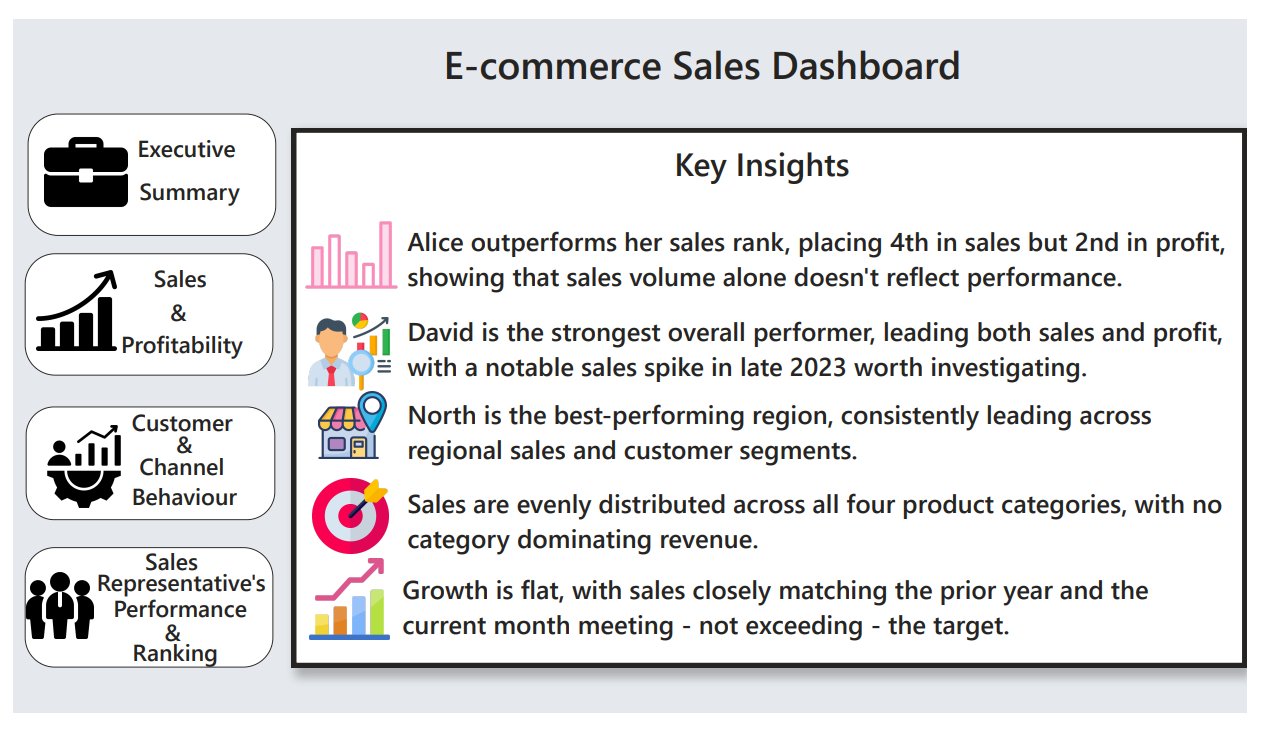

Layout of this report page (visuals, bound fields, positions):
{"tool":"powerbi","page":{"name":"Index","canvas":[1280,720],"ordinal":0},"visuals":[{"type":"shape","box":[289.5,112.9,991,559.9],"z":0},{"type":"textbox","title":"Alice outperforms her sales rank, placing 4th in sales but 2nd in profit, showing that sales volume alone doesn''t reflect performance.","box":[404,211.6,865.3,109.8],"z":1000},{"type":"textbox","title":"David is the strongest overall performer, leading both sales and profit, with a notable sales spike in late 2023 worth investigating.","box":[404,305.4,865.3,101.8],"z":2000},{"type":"textbox","title":"North is the best-performing region, consistently leading across regional sales and customer segments.","box":[404,391.3,865.3,101.8],"z":3000},{"type":"textbox","title":"Sales are evenly distributed across all four product categories, with no category dominating revenue.","box":[404,483.5,865.3,101.8],"z":4000},{"type":"textbox","title":"Growth is flat, with sales closely matching the prior year and the current month meeting - not exceeding - the target.","box":[399.2,572.6,865.3,101.8],"z":5000},{"type":"image","box":[302.2,189.3,97.4,111.1],"z":6000},{"type":"image","box":[302.2,559.9,93.8,84.3],"z":7000},{"type":"image","box":[289.5,302.2,119.3,85.9],"z":8000},{"type":"image","box":[316.5,364.2,70,112.9],"z":9000},{"type":"image","box":[303.8,477.2,91.9,78.1],"z":10000},{"type":"shape","box":[15,98.3,258.3,126.7],"z":11000},{"type":"shape","box":[11.7,243.3,258.3,126.7],"z":12000},{"type":"shape","box":[13.3,401.7,258.3,118.3],"z":13000},{"type":"shape","box":[11.7,548.3,258.3,125],"z":14000},{"type":"textbox","title":"Executive ","box":[123.9,116.7,116.1,52.2],"z":15000},{"type":"textbox","title":"&","box":[157.8,286.7,120.6,62.2],"z":16000},{"type":"textbox","title":"Sales","box":[141.1,252.2,116.7,68.3],"z":17000},{"type":"textbox","title":"Summary","box":[125.6,161.7,116.1,75],"z":18000},{"type":"textbox","title":"Profitability","box":[107.2,320,152.8,72.8],"z":19000},{"type":"textbox","title":"Customer","box":[117.8,400.6,152.8,63.9],"z":20000},{"type":"textbox","title":"&","box":[164.4,424.4,35.6,36.7],"z":21000},{"type":"textbox","title":"Channel","box":[125.6,447.2,152.8,72.8],"z":22000},{"type":"textbox","title":"Behaviour","box":[117.8,477.8,152.8,72.8],"z":23000},{"type":"textbox","title":"Sales","box":[132.2,546.1,152.8,72.8],"z":24000},{"type":"textbox","title":"Representative''s","box":[82.2,567.2,196.1,72.8],"z":25000},{"type":"textbox","title":"Performance","box":[98.9,594.4,153.3,72.8],"z":26000},{"type":"textbox","title":"&","box":[151.7,618.9,152.8,73.3],"z":27000},{"type":"textbox","title":"Ranking","box":[119,640,152.9,72.9],"z":28000},{"type":"image","box":[14.3,566.3,68.4,84.3],"z":29000},{"type":"image","box":[33.4,79.5,85.9,157.5],"z":30000},{"type":"image","box":[23.9,245,82.7,114.5],"z":31000},{"type":"image","box":[28.6,400.8,89.1,127.2],"z":32000},{"type":"textbox","title":"Key Insights","box":[680.8,127.2,208.4,109.8],"z":32001},{"type":"textbox","title":"E-commerce Sales Dashboard","box":[442.2,19.1,558.3,97],"z":32002}]}

Visuals, with their boxes on the page's 1280x720 design canvas (x1, y1, x2, y2). These are canvas units, not pixel positions in the 1263x733 screenshot, which may show the page scaled, cropped or inside an application window:
shape: {"x1": 290, "y1": 113, "x2": 1280, "y2": 673}
"Alice outperforms her sales rank, placing 4th in sales but 2nd in profit, showing that sales volume alone doesn''t reflect performance." textbox: {"x1": 404, "y1": 212, "x2": 1269, "y2": 321}
"David is the strongest overall performer, leading both sales and profit, with a notable sales spike in late 2023 worth investigating." textbox: {"x1": 404, "y1": 305, "x2": 1269, "y2": 407}
"North is the best-performing region, consistently leading across regional sales and customer segments." textbox: {"x1": 404, "y1": 391, "x2": 1269, "y2": 493}
"Sales are evenly distributed across all four product categories, with no category dominating revenue." textbox: {"x1": 404, "y1": 484, "x2": 1269, "y2": 585}
"Growth is flat, with sales closely matching the prior year and the current month meeting - not exceeding - the target." textbox: {"x1": 399, "y1": 573, "x2": 1264, "y2": 674}
image: {"x1": 302, "y1": 189, "x2": 400, "y2": 300}
image: {"x1": 302, "y1": 560, "x2": 396, "y2": 644}
image: {"x1": 290, "y1": 302, "x2": 409, "y2": 388}
image: {"x1": 316, "y1": 364, "x2": 386, "y2": 477}
image: {"x1": 304, "y1": 477, "x2": 396, "y2": 555}
shape: {"x1": 15, "y1": 98, "x2": 273, "y2": 225}
shape: {"x1": 12, "y1": 243, "x2": 270, "y2": 370}
shape: {"x1": 13, "y1": 402, "x2": 272, "y2": 520}
shape: {"x1": 12, "y1": 548, "x2": 270, "y2": 673}
"Executive " textbox: {"x1": 124, "y1": 117, "x2": 240, "y2": 169}
"&" textbox: {"x1": 158, "y1": 287, "x2": 278, "y2": 349}
"Sales" textbox: {"x1": 141, "y1": 252, "x2": 258, "y2": 320}
"Summary" textbox: {"x1": 126, "y1": 162, "x2": 242, "y2": 237}
"Profitability" textbox: {"x1": 107, "y1": 320, "x2": 260, "y2": 393}
"Customer" textbox: {"x1": 118, "y1": 401, "x2": 271, "y2": 464}
"&" textbox: {"x1": 164, "y1": 424, "x2": 200, "y2": 461}
"Channel" textbox: {"x1": 126, "y1": 447, "x2": 278, "y2": 520}
"Behaviour" textbox: {"x1": 118, "y1": 478, "x2": 271, "y2": 551}
"Sales" textbox: {"x1": 132, "y1": 546, "x2": 285, "y2": 619}
"Representative''s" textbox: {"x1": 82, "y1": 567, "x2": 278, "y2": 640}
"Performance" textbox: {"x1": 99, "y1": 594, "x2": 252, "y2": 667}
"&" textbox: {"x1": 152, "y1": 619, "x2": 304, "y2": 692}
"Ranking" textbox: {"x1": 119, "y1": 640, "x2": 272, "y2": 713}
image: {"x1": 14, "y1": 566, "x2": 83, "y2": 651}
image: {"x1": 33, "y1": 80, "x2": 119, "y2": 237}
image: {"x1": 24, "y1": 245, "x2": 107, "y2": 360}
image: {"x1": 29, "y1": 401, "x2": 118, "y2": 528}
"Key Insights" textbox: {"x1": 681, "y1": 127, "x2": 889, "y2": 237}
"E-commerce Sales Dashboard" textbox: {"x1": 442, "y1": 19, "x2": 1000, "y2": 116}
